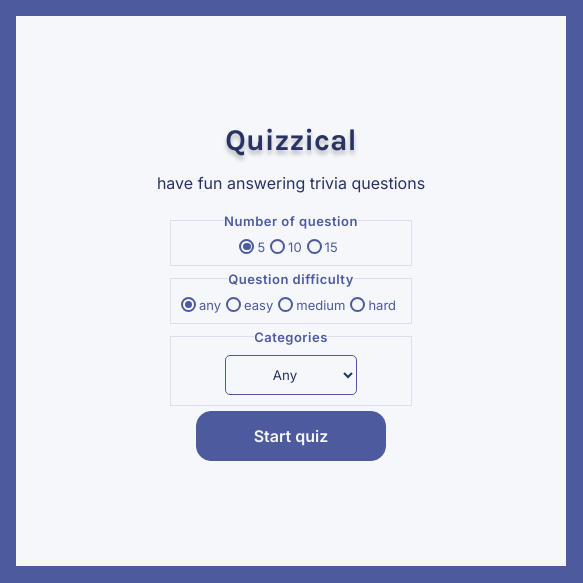
Test case: App component › number of question radio inputs
Expected: the radio button labelled "5" is checked, top-left (239, 239), bottom-right (254, 254)
Click the radio button labelled "10". click: (278, 246)
box: top-left (270, 239), bottom-right (285, 254)
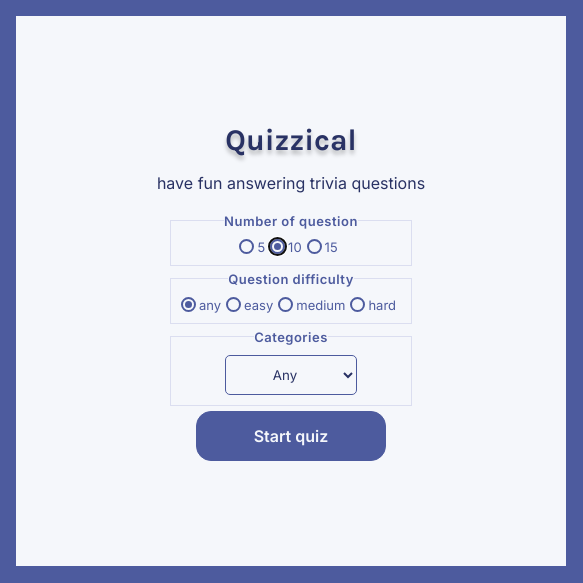
Result: the radio button labelled "10" is checked at top-left (270, 239), bottom-right (285, 254)
Result: the radio button labelled "5" is not checked at top-left (239, 239), bottom-right (254, 254)
